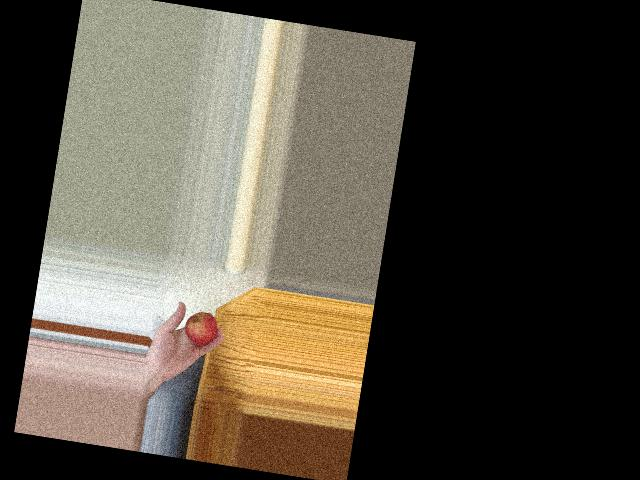apple: (180, 308, 220, 346)
